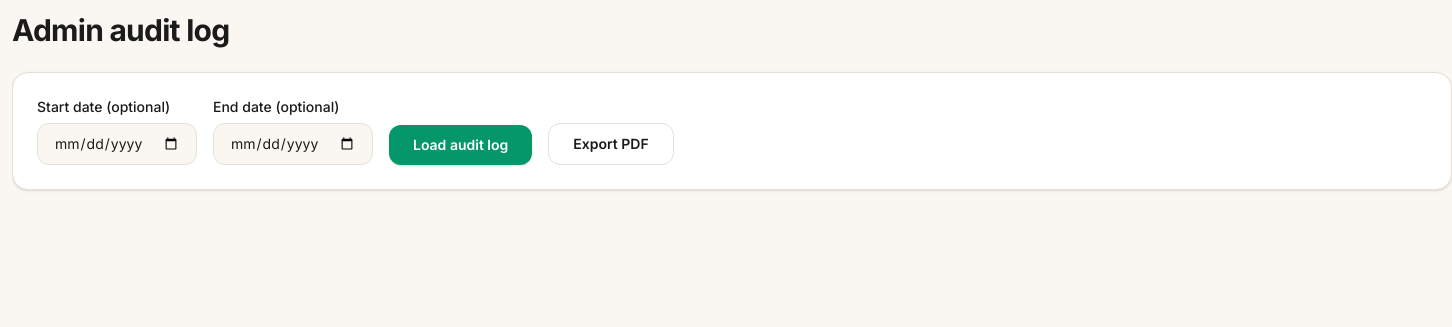
Test: loads and renders the audit log table
This screenshot has width=1452, height=327.
Click the button "Load audit log". click: (461, 145)
box: [389,125,532,165]
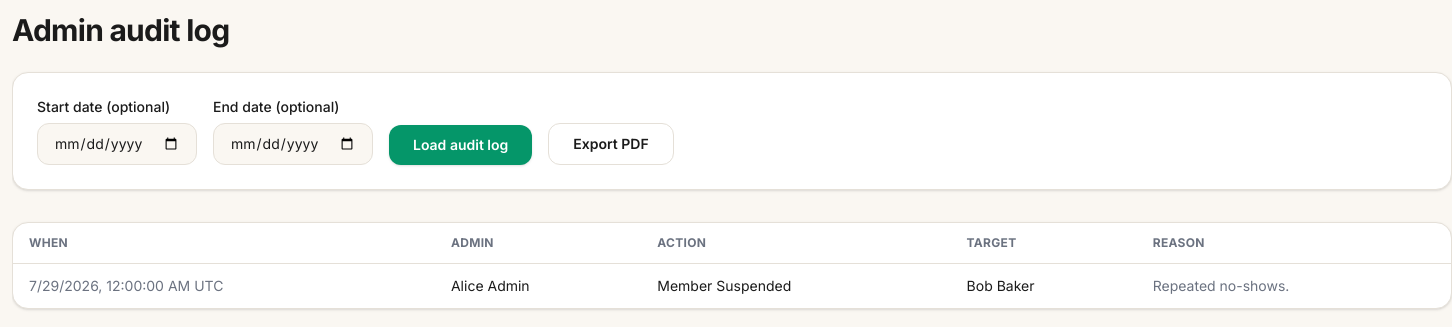
Expected: the text "Alice Admin" is shown, [435,264,641,308]
Expected: the text "Bob Baker" is shown, [951,264,1137,308]
Expected: the text "member suspended" is shown, [641,264,951,308]
